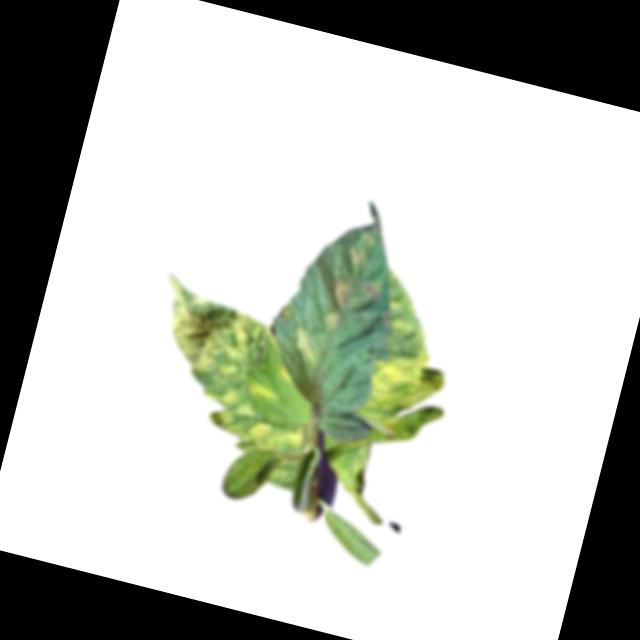Leaf_Mold: (136, 270, 275, 413), (360, 338, 458, 450), (209, 407, 307, 461), (284, 321, 321, 366), (325, 273, 355, 312), (342, 240, 373, 273), (247, 376, 280, 405), (319, 307, 343, 328)
